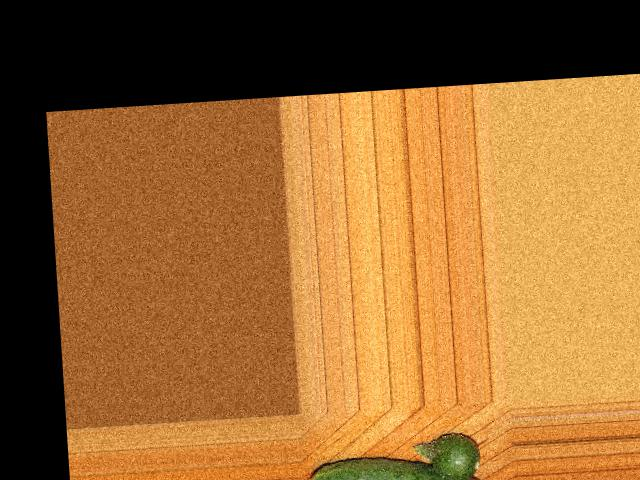cucumber: (308, 450, 488, 480)
